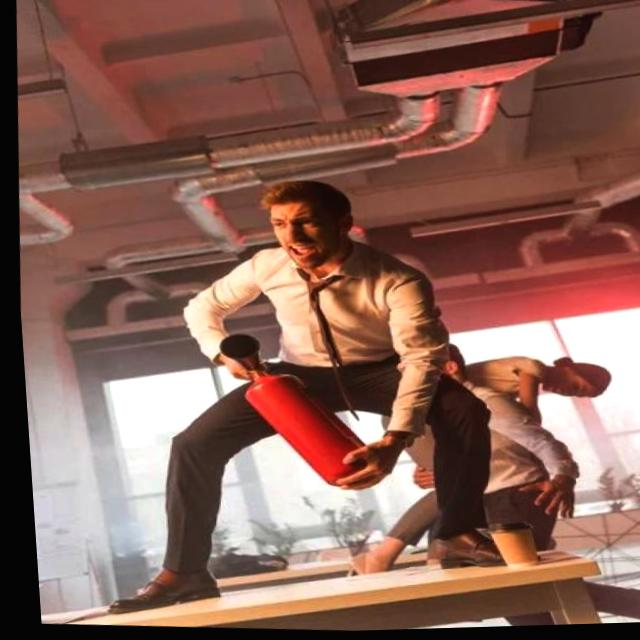FireExtinguisher: (188, 327, 389, 502)
